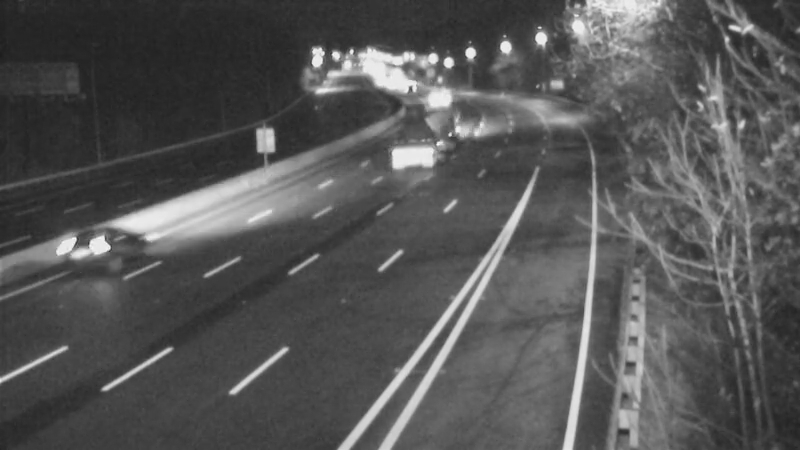vehicle: (40, 211, 120, 291), (386, 63, 436, 113), (412, 76, 462, 126), (390, 110, 440, 160)
